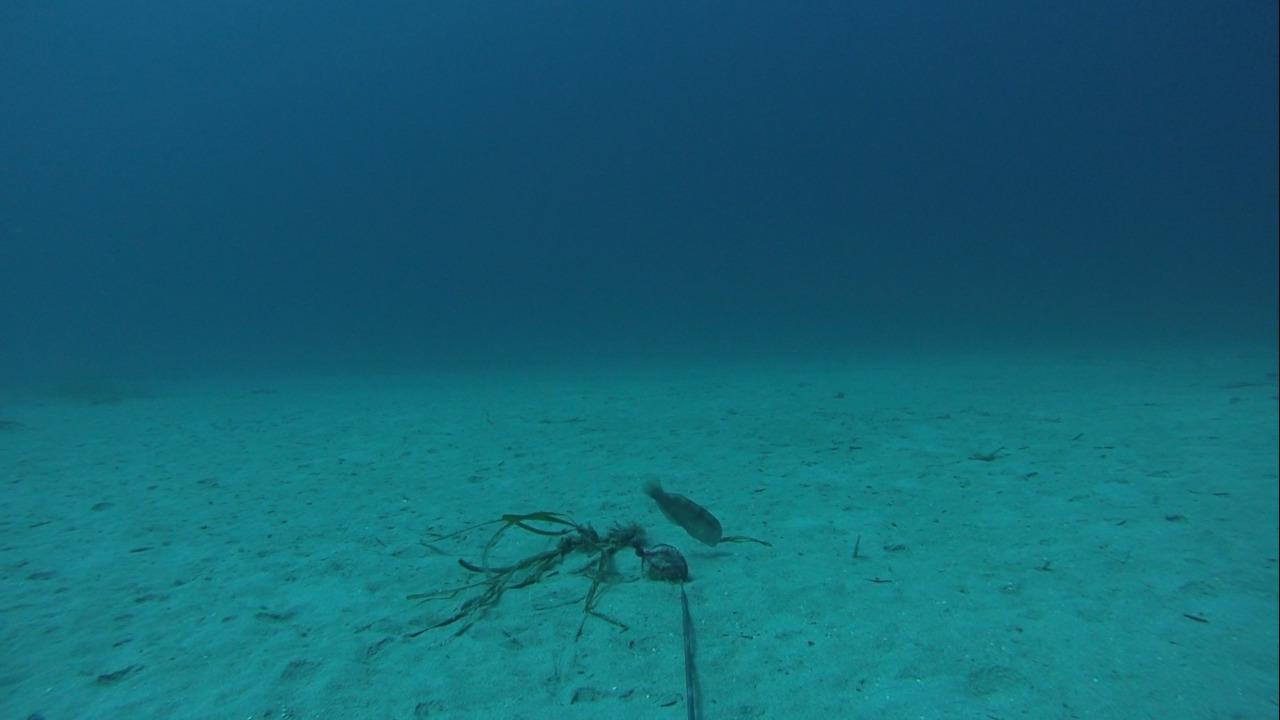raor: (638, 472, 725, 549)
